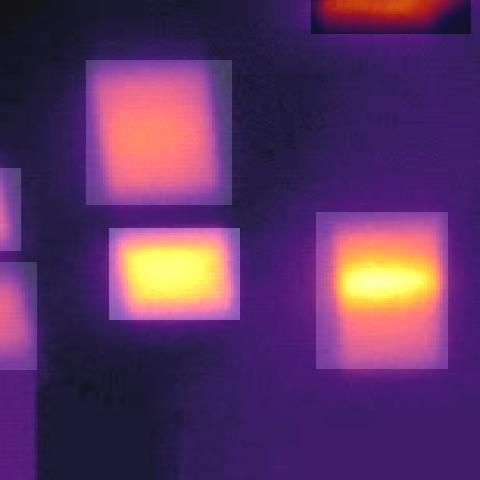fault: (86, 60, 232, 205), (316, 212, 448, 369), (109, 228, 240, 320), (311, 0, 471, 34), (0, 262, 37, 370), (0, 168, 21, 251)
